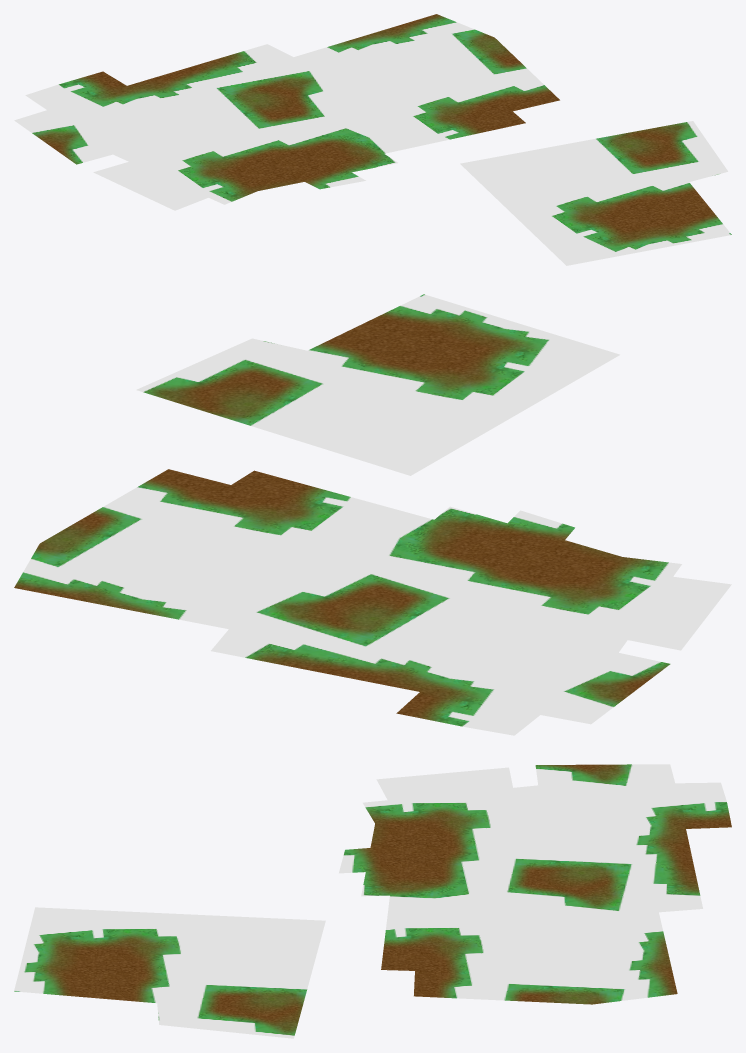
Rendered from DirtPatch.fbx.
3 renders of one model, top to bottom at view 1: azimuth 30°, elevation 25°; view 2: azimuth 150°, elevation 25°; view 3: azimuth 270°, elevation 25°, orthographic. The views are drawn at different scales.
Parts seen in each view (by area): view 1: Terrain2.002; view 2: Terrain2.002; view 3: Terrain2.002.
Boxes of the visible parts, bbox=[...] form: Terrain2.002: bbox=[14, 14, 731, 265]; Terrain2.002: bbox=[14, 294, 731, 735]; Terrain2.002: bbox=[14, 764, 731, 1038].
Bounding box in the file's own units: 10.3 × 4.02e-07 × 11.39.
